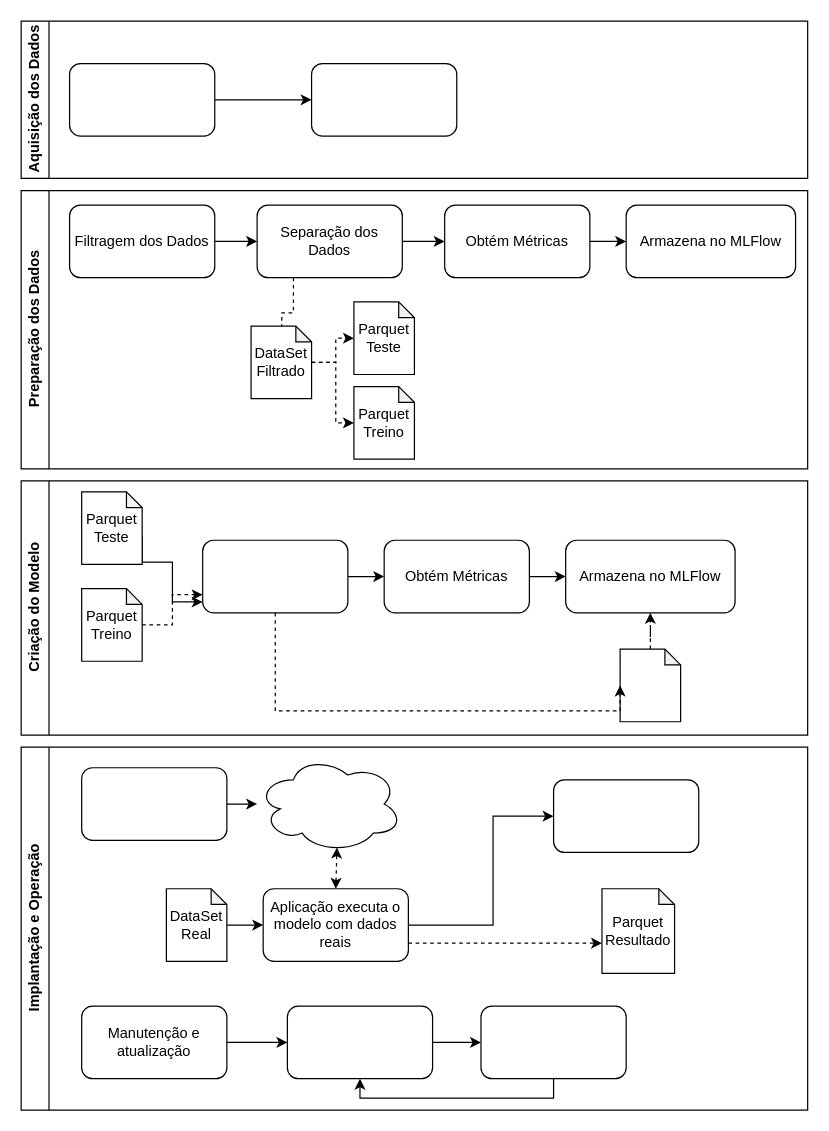
Some shapes in this 829 by 1131 pixel diagram are drawn without their labels. The centre of each missing label's shape, as x and y in pixels:
"API MLFlow" belongs at pixel 329 803.
"Aplica Modelo scikit-learn" belongs at pixel 274 576.
"Coleta dos Dados" belongs at pixel 383 99.
"Dashboard Streamlit" belongs at pixel 625 815.
"Definição da Necessidade" belongs at pixel 141 99.
"Disponibilização do Modelo Treinado" belongs at pixel 153 803.
"Modelo Treinado" belongs at pixel 650 685.
"Monitoramento das Métricas" belongs at pixel 359 1042.
"Retreinamento do Modelo" belongs at pixel 553 1042.
